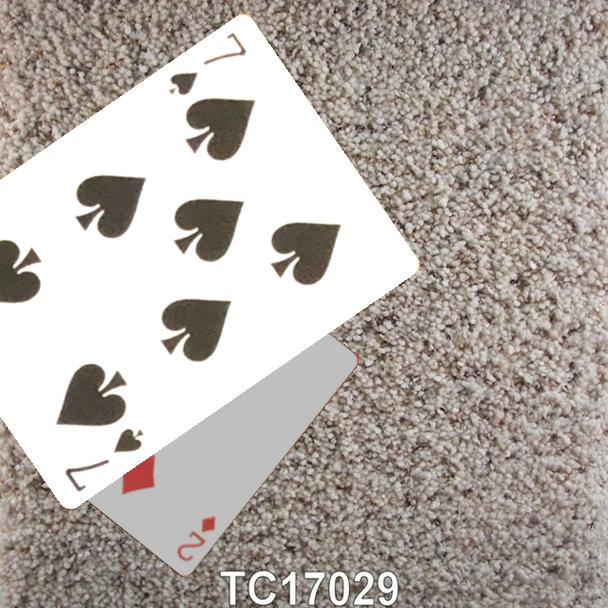d02: (173, 512, 219, 564)
s07: (61, 423, 147, 495), (165, 28, 250, 98)
